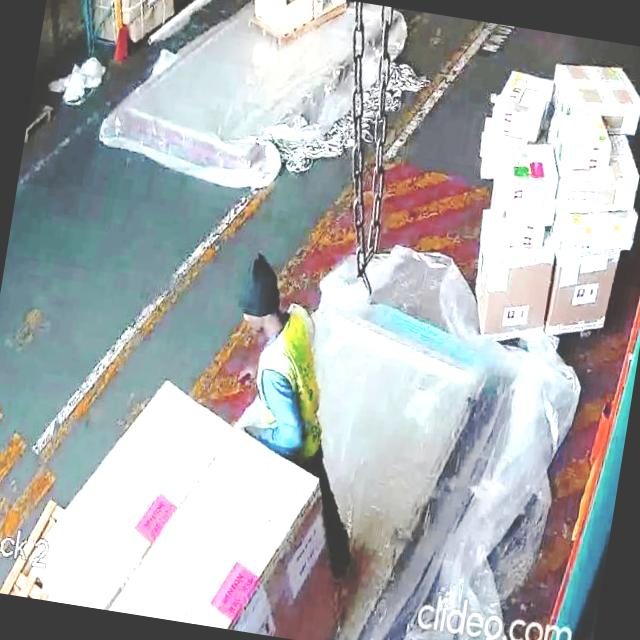Box: (29, 368, 208, 620), (173, 419, 330, 640), (466, 240, 558, 336), (544, 252, 617, 340), (550, 59, 640, 127), (488, 64, 548, 138), (498, 142, 564, 208), (566, 172, 640, 219), (560, 212, 636, 256), (556, 112, 609, 165)
